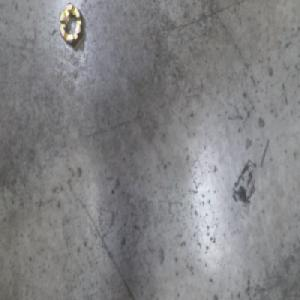Nut: (59, 4, 85, 48)
